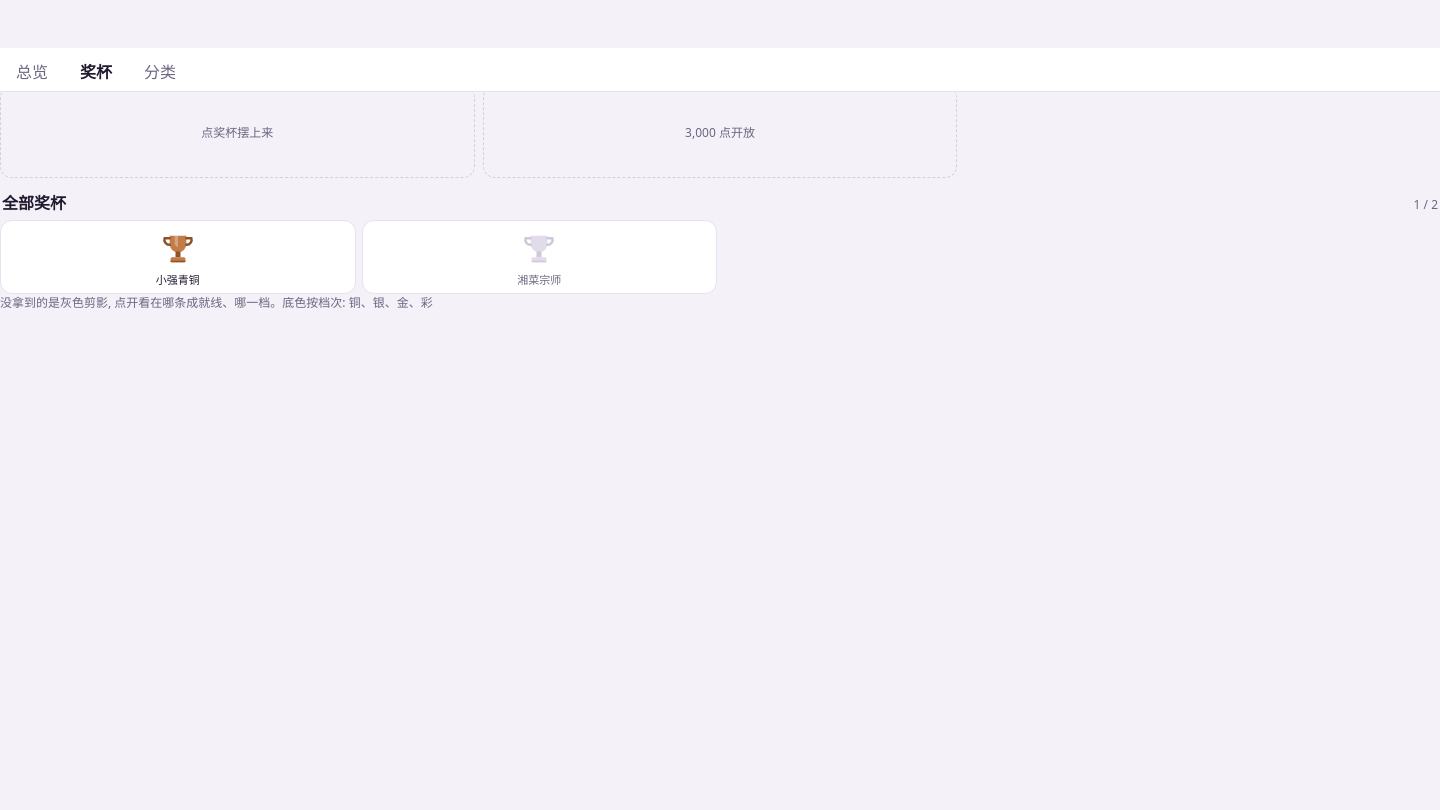
Test: AchievementsView › 奖杯：拿到的能摆进展示柜
The width and height of the screenshot is (1440, 810).
What coordinates should you click on to do the following:
click the button with test id "ach-trophy-roach1"
I would click on:
 (178, 257)
Its box is x1=0 y1=220 x2=356 y2=294.
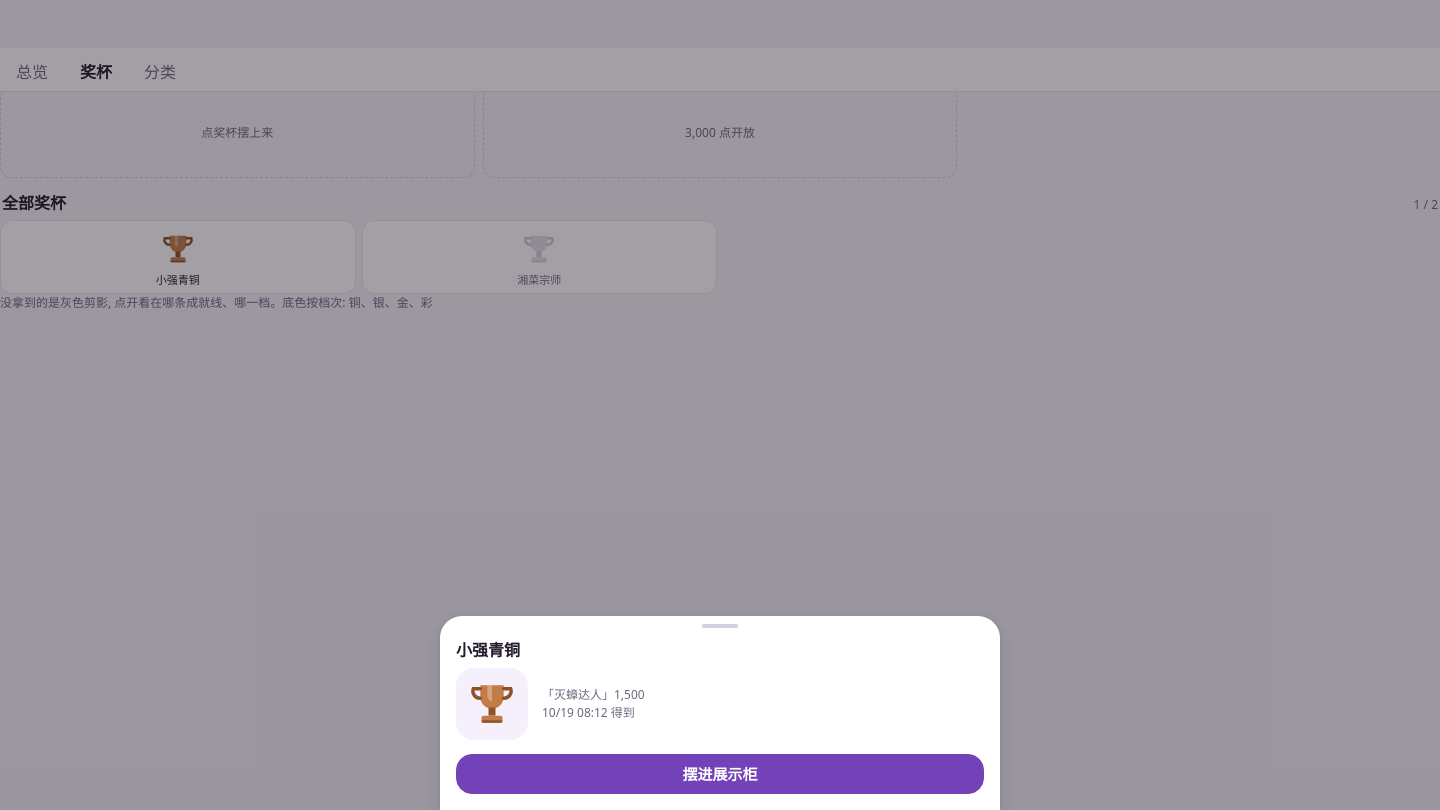
What coordinates should you click on to do the following:
click the button with test id "ach-shelf-toggle"
I would click on:
 (720, 774)
Its box is x1=456 y1=754 x2=984 y2=794.
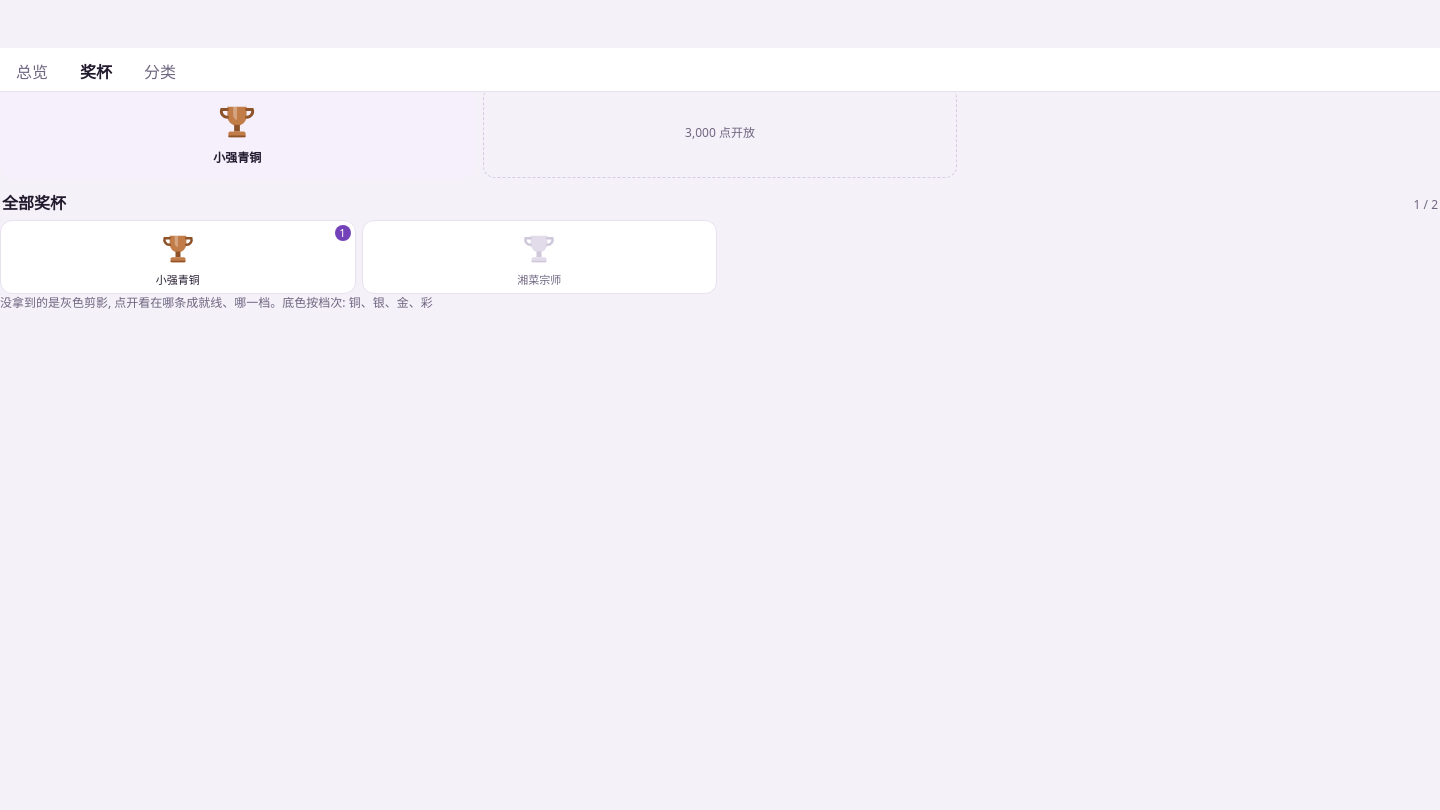
Expected: the element with test id "ach-shelf" shows "小强青铜", x1=0 y1=86 x2=475 y2=178
